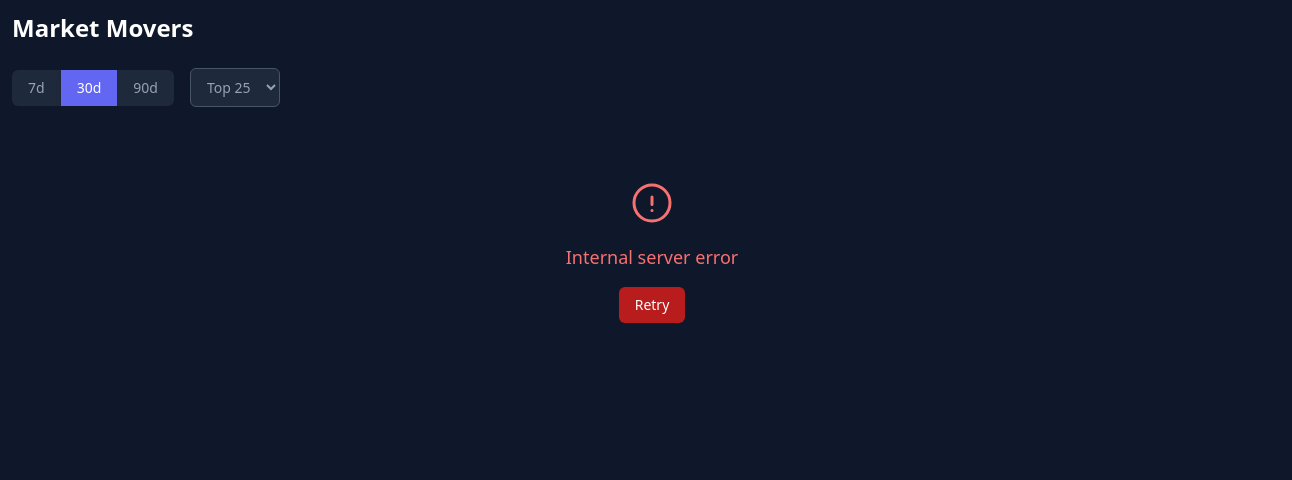
Test: MarketMovers page › shows retry button that refetches on error
Expected: the message "Internal server error Retry" is shown, [566,179,738,323]
Click the button "Retry" at (652, 305), box [619,287,685,323]
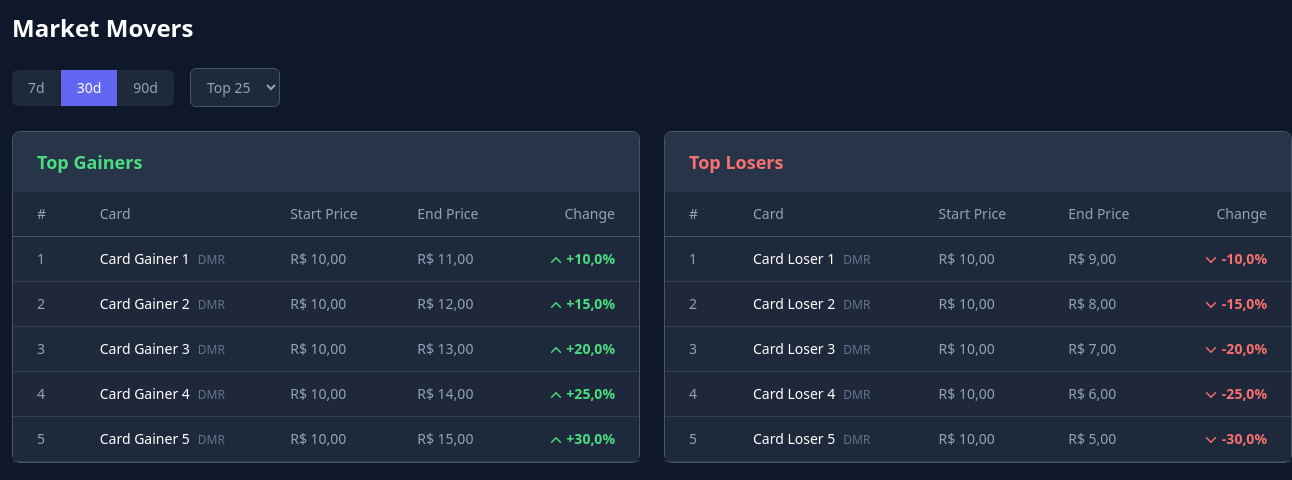
Expected: the message with test id "error-banner" is gone
